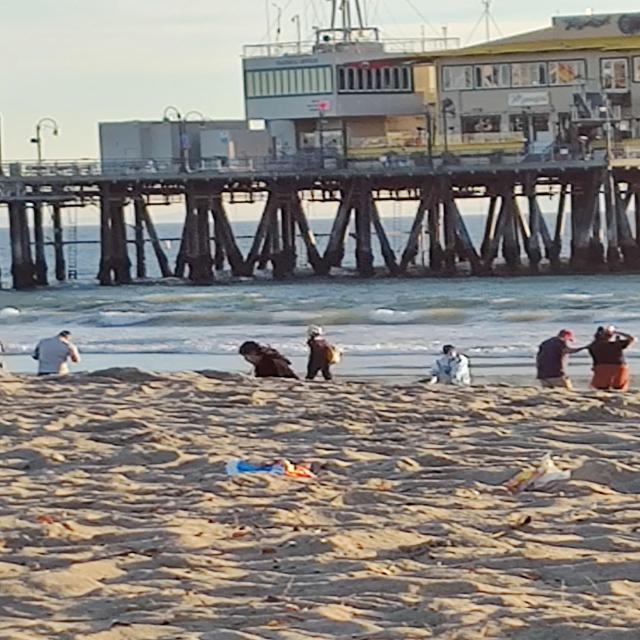litter: (148, 427, 591, 532)
